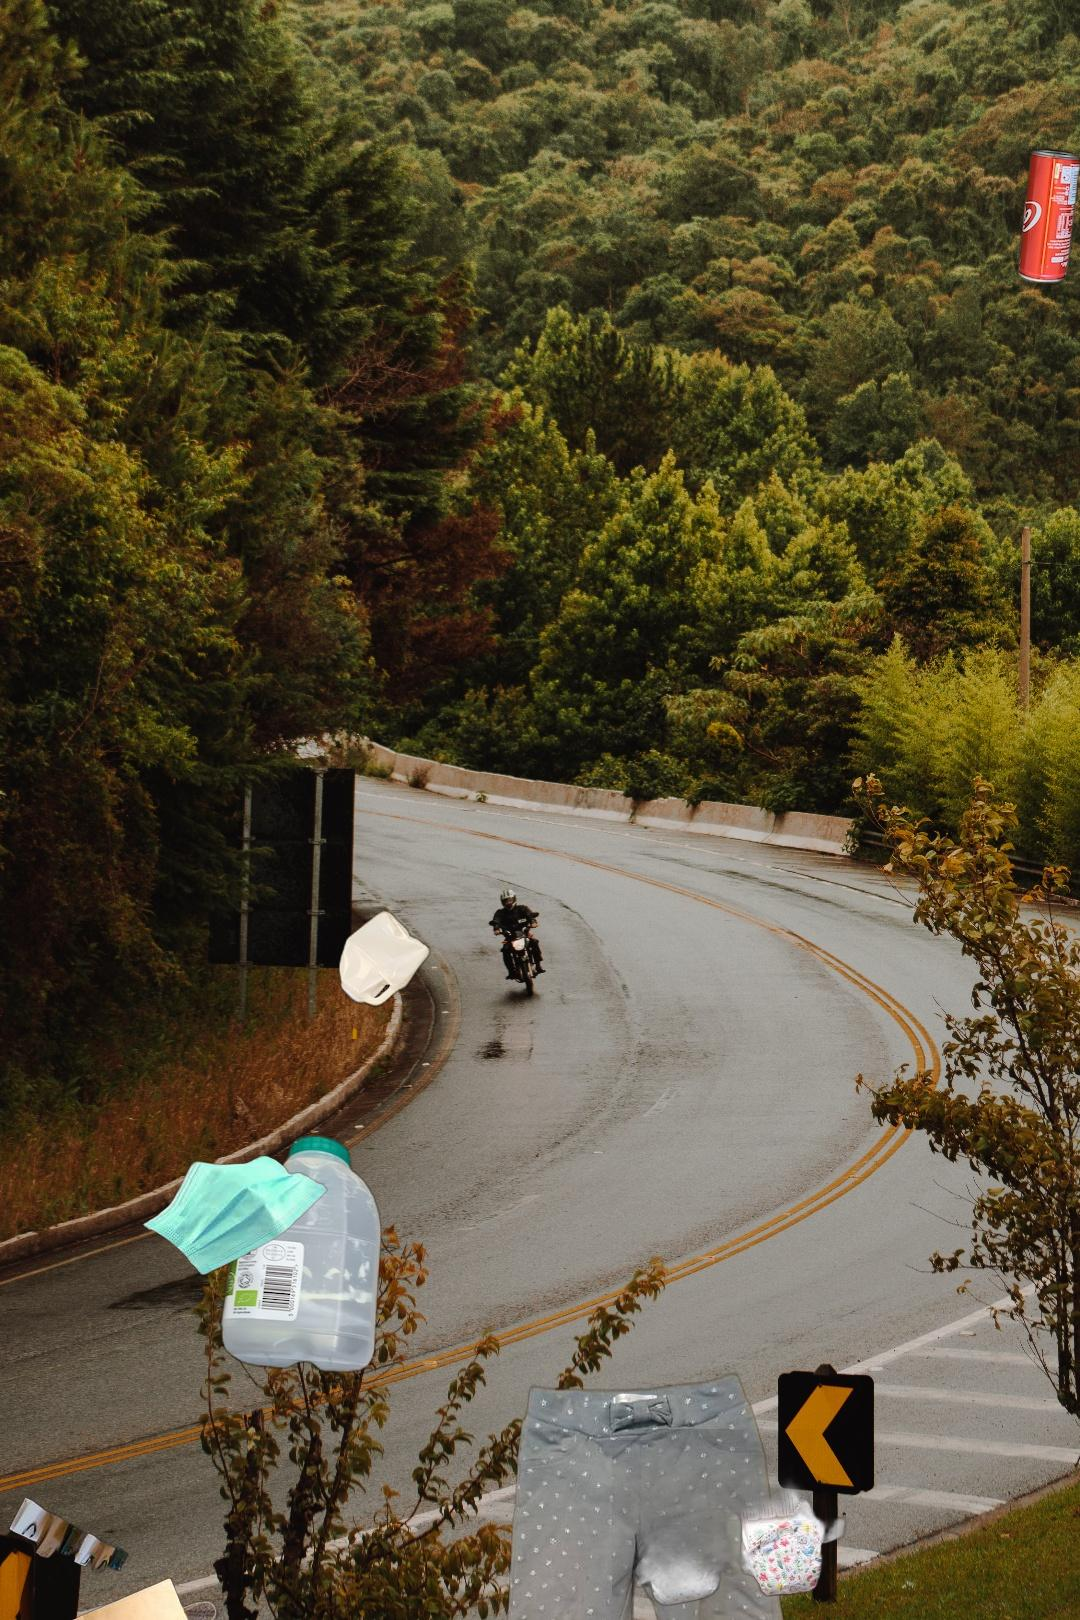clothes: (493, 1367, 796, 1620)
metal-cans: (1012, 143, 1080, 289), (357, 1606, 869, 1620)
paper-bag: (6, 1495, 268, 1620)
plastic-bottles: (216, 1129, 386, 1379), (334, 904, 434, 1011)
trash: (612, 1430, 887, 1612), (139, 1154, 341, 1278)
